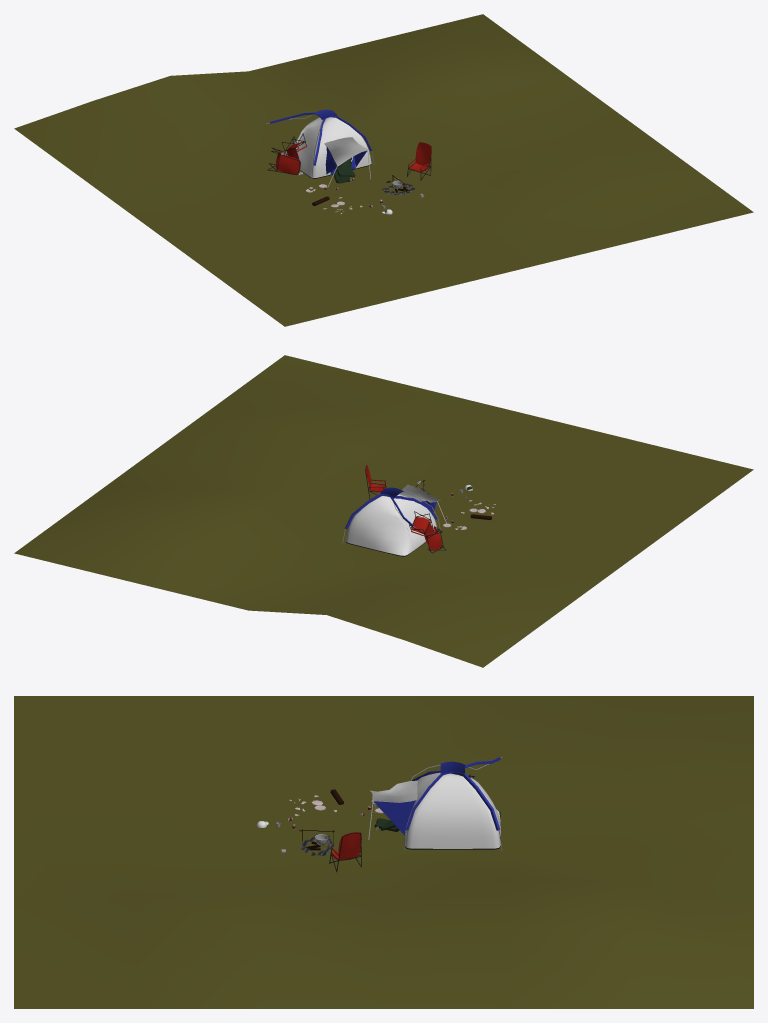
Rendered from camp.fbx.
The picture shows the model from 3 angles, top to bottom: view 1: azimuth 30°, elevation 25°; view 2: azimuth 150°, elevation 25°; view 3: azimuth 270°, elevation 25°; orthographic projection. The views are drawn at different scales.
Parts seen in each view (by area): view 1: terrain, tent, chair2, chair3; view 2: terrain, tent; view 3: terrain, tent, chair2.
Part boxes in pixels (x1=…): terrain: x1=14, y1=14, x2=753, y2=326; tent: x1=266, y1=109, x2=374, y2=187; chair2: x1=407, y1=142, x2=431, y2=180; chair3: x1=267, y1=147, x2=300, y2=174; terrain: x1=14, y1=355, x2=753, y2=667; tent: x1=342, y1=485, x2=446, y2=556; terrain: x1=14, y1=696, x2=753, y2=1008; tent: x1=368, y1=757, x2=502, y2=851; chair2: x1=329, y1=832, x2=361, y2=872.
Size of the model in its own units: 787 by 79.08 by 787.
